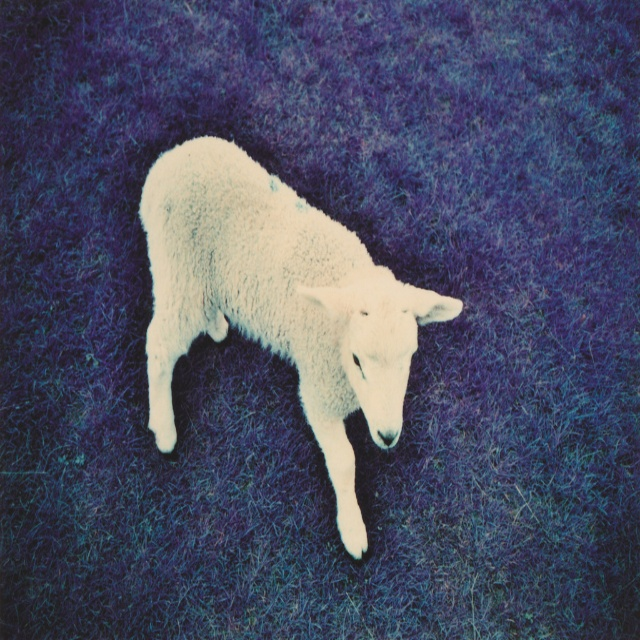Sheep: (129, 123, 450, 571)
